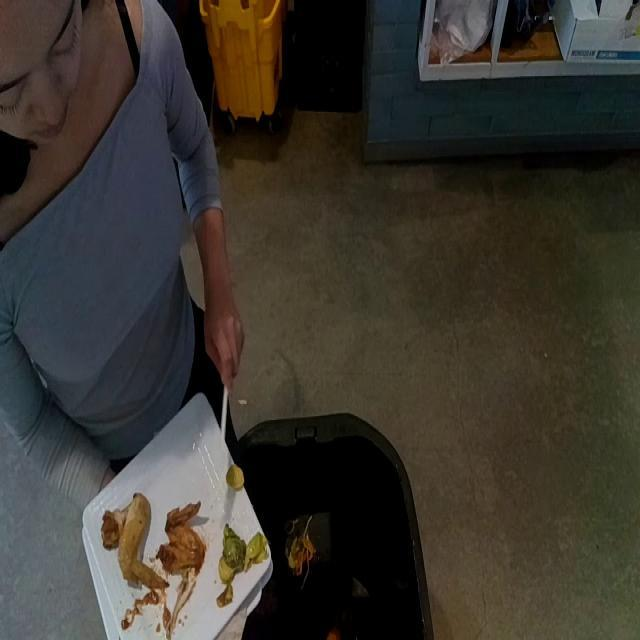Anorganik: (81, 371, 257, 639), (211, 384, 230, 486)
Organik: (102, 477, 266, 613), (283, 502, 334, 608)
